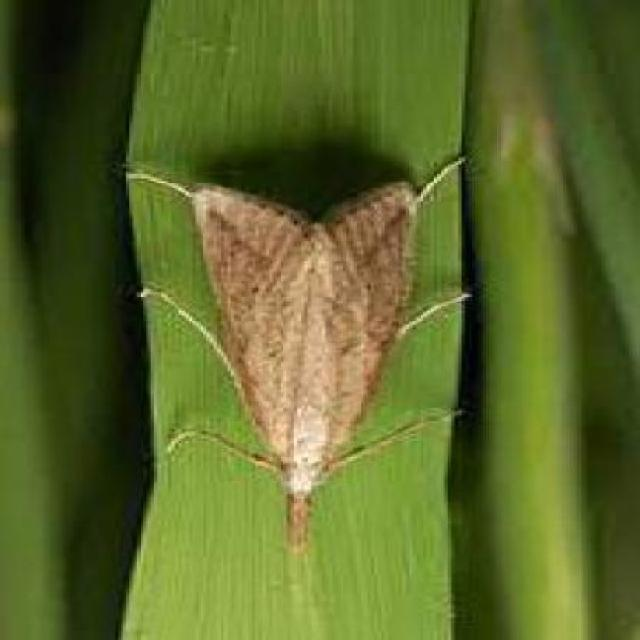stem-borer: (121, 153, 462, 550)
